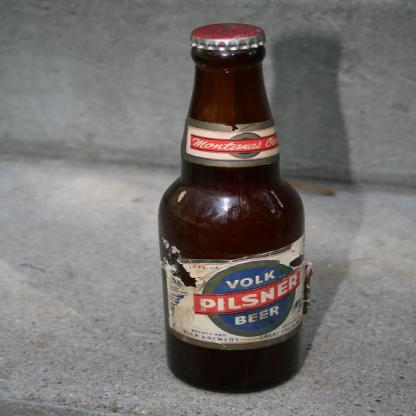drinking: (158, 24, 307, 394)
